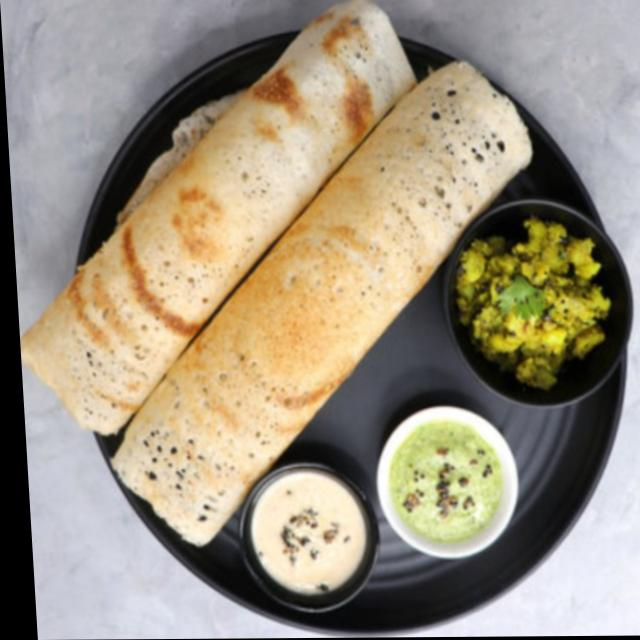DOSA: (111, 63, 531, 545), (20, 0, 414, 434)
GREEN CHUTNEY: (376, 407, 518, 557)
VEGGIES: (450, 208, 625, 398)
WHITE CHUTNEY: (251, 470, 368, 594), (251, 472, 367, 594)
